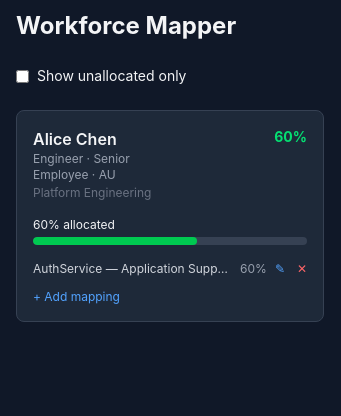
Test case: MappingView › blocks submission client-side when resource is inactive
Check: the text "Alice Chen" is shown, box [33,129,117,149]
Click the button "+ Add mapping" at (76, 296), box [33,289,307,305]
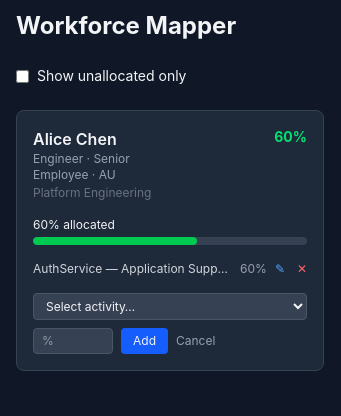
Select "CoreDataWarehouse — Application Support" in the dropdown at (170, 306), box [33,293,307,320]
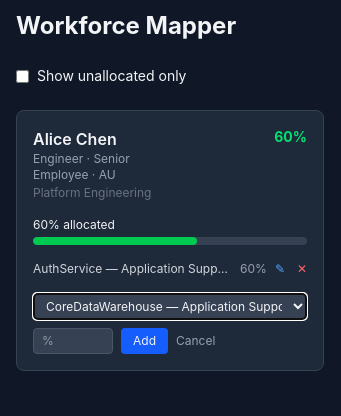
Type "50" into the number field with placeholder "%" at (73, 341), box [33,328,113,354]
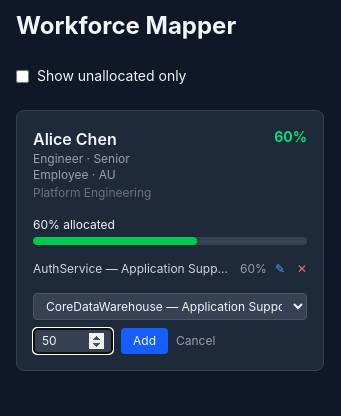
Click the button "Add" at (144, 341), box [121,328,168,354]
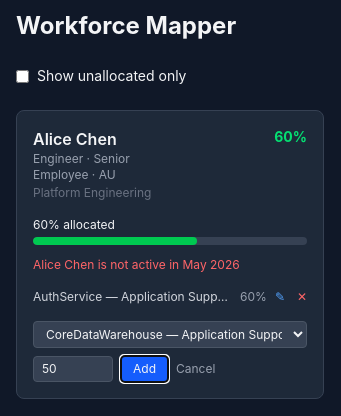
Check: the text "Alice Chen is not active in May 2026" is shown, box [33,257,240,272]
